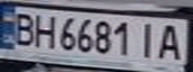1: (112, 18, 136, 56)
6: (54, 15, 78, 52), (75, 16, 96, 54)
8: (90, 18, 115, 55)
A: (154, 20, 187, 61)
B: (9, 9, 39, 47)
H: (30, 12, 60, 50)
I: (133, 19, 163, 60)
